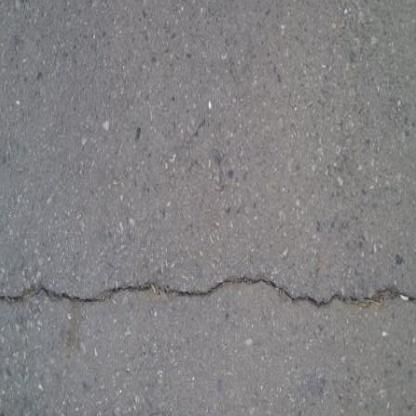Cracks: (0, 270, 416, 310)
